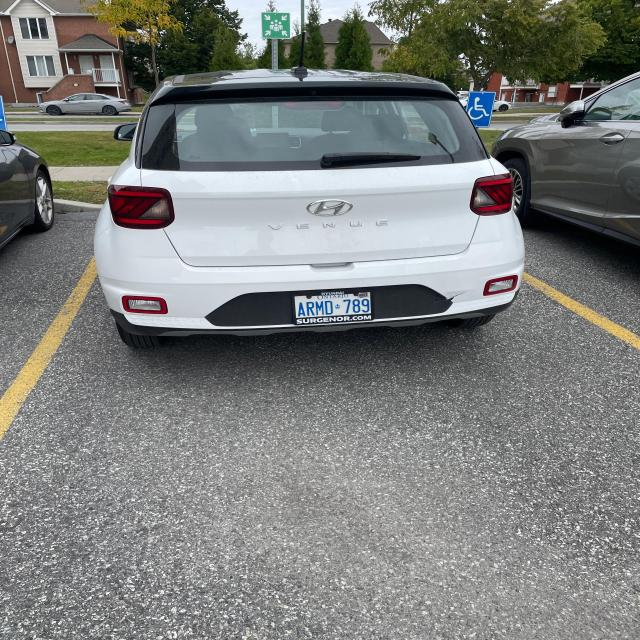plaque: (294, 291, 372, 324)
